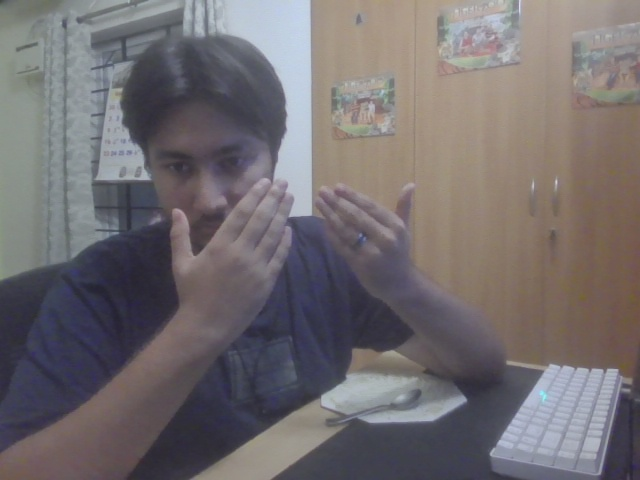thankyou: (166, 175, 426, 330)
